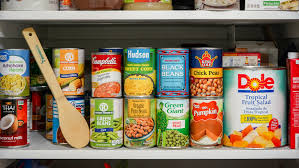can: (1, 39, 299, 154)
